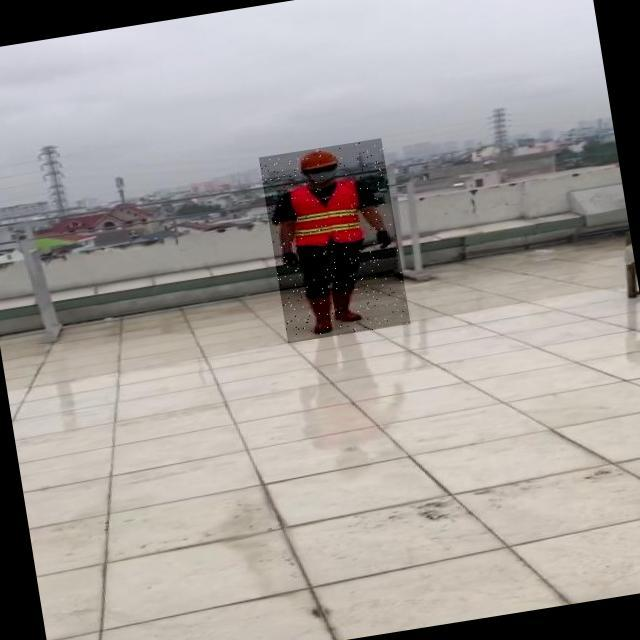Gloves: (371, 228, 394, 250), (280, 249, 303, 270)
Helmet: (297, 147, 340, 173)
Human: (259, 138, 411, 343)
Safety Boot: (302, 291, 340, 337), (330, 286, 365, 326)
Safety Vest: (287, 178, 368, 252)
